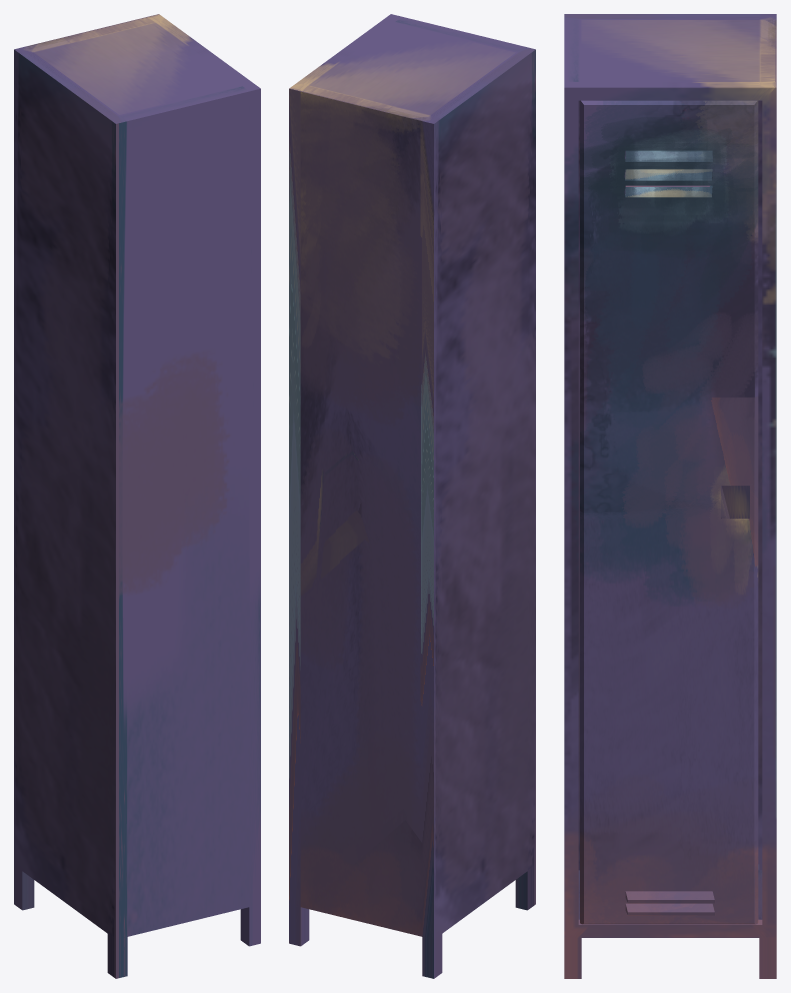
Rendered from LO_locker_tall.glb.
3 views of the same model, side by side, from view 1: azimuth 30°, elevation 25°; view 2: azimuth 150°, elevation 25°; view 3: azimuth 270°, elevation 25° (orthographic). The views are drawn at different scales.
Parts seen in each view (by area): view 1: single high locker.001; view 2: single high locker.001; view 3: single high locker.001.
Part boxes in pixels (<box>): single high locker.001: <box>14,14,260,978</box>; single high locker.001: <box>289,14,535,978</box>; single high locker.001: <box>564,14,776,978</box>.
Size of the model in its own units: 0.3469 by 1.88 by 0.4061.
Materials: 1 (1 with a texture image).
